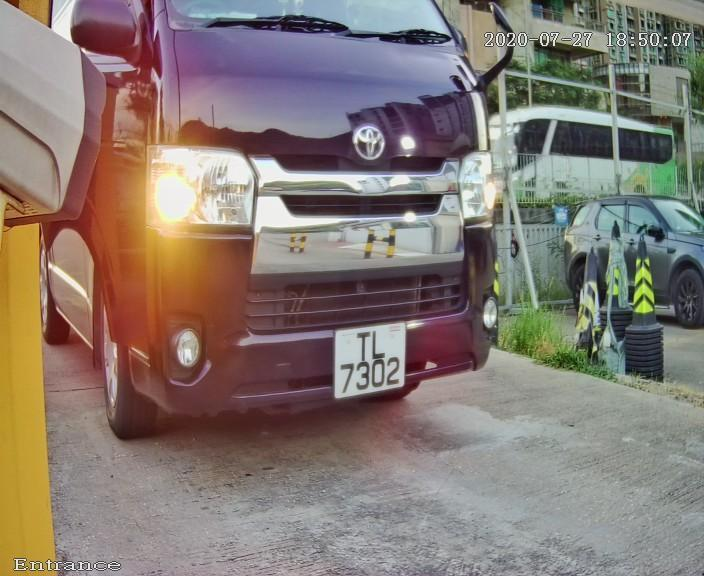privatecar: (48, 16, 525, 445)
